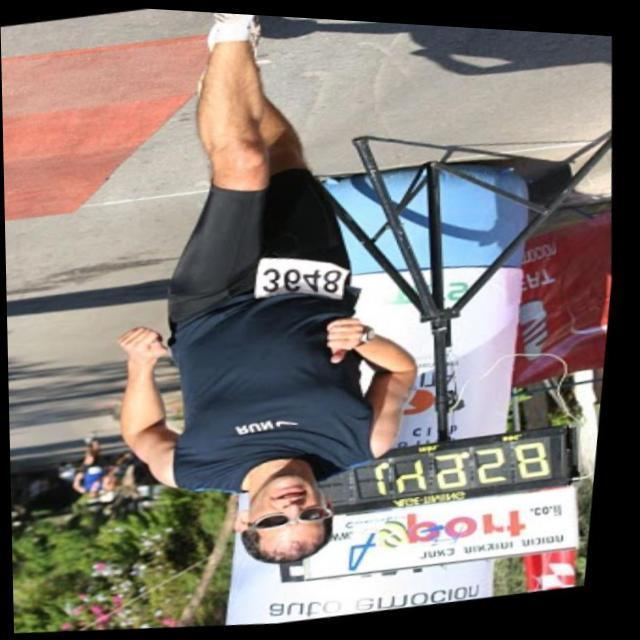dorsal: (242, 242, 372, 319)
